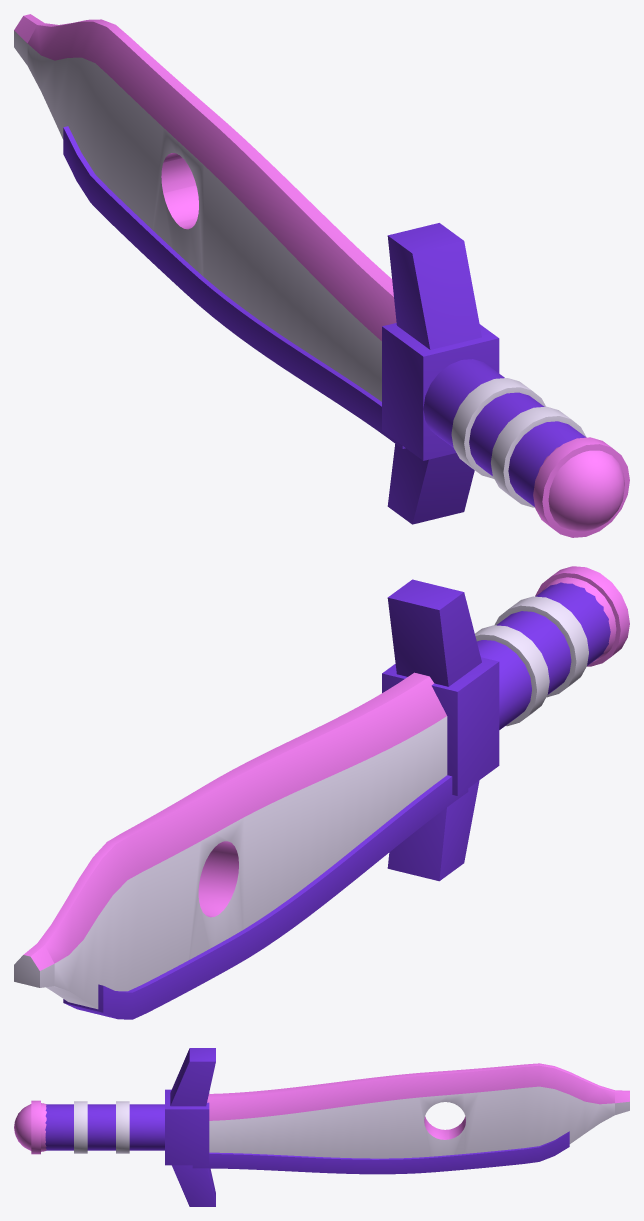
The model's file is Boss_VoidWraith.glb.
The picture shows the model from 3 angles, top to bottom: view 1: azimuth 30°, elevation 25°; view 2: azimuth 150°, elevation 25°; view 3: azimuth 270°, elevation 25°; orthographic projection. The views are drawn at different scales.
Parts seen in each view (by area): view 1: Boss_VoidWraith; view 2: Boss_VoidWraith; view 3: Boss_VoidWraith.
Boxes of the visible parts, left/top/right/bottom form: Boss_VoidWraith: left=14, top=14, right=629, bottom=537; Boss_VoidWraith: left=14, top=566, right=629, bottom=1019; Boss_VoidWraith: left=14, top=1048, right=629, bottom=1206.
Size of the model in its own units: 0.088 by 0.26 by 1.
1 material, 1 textured.
